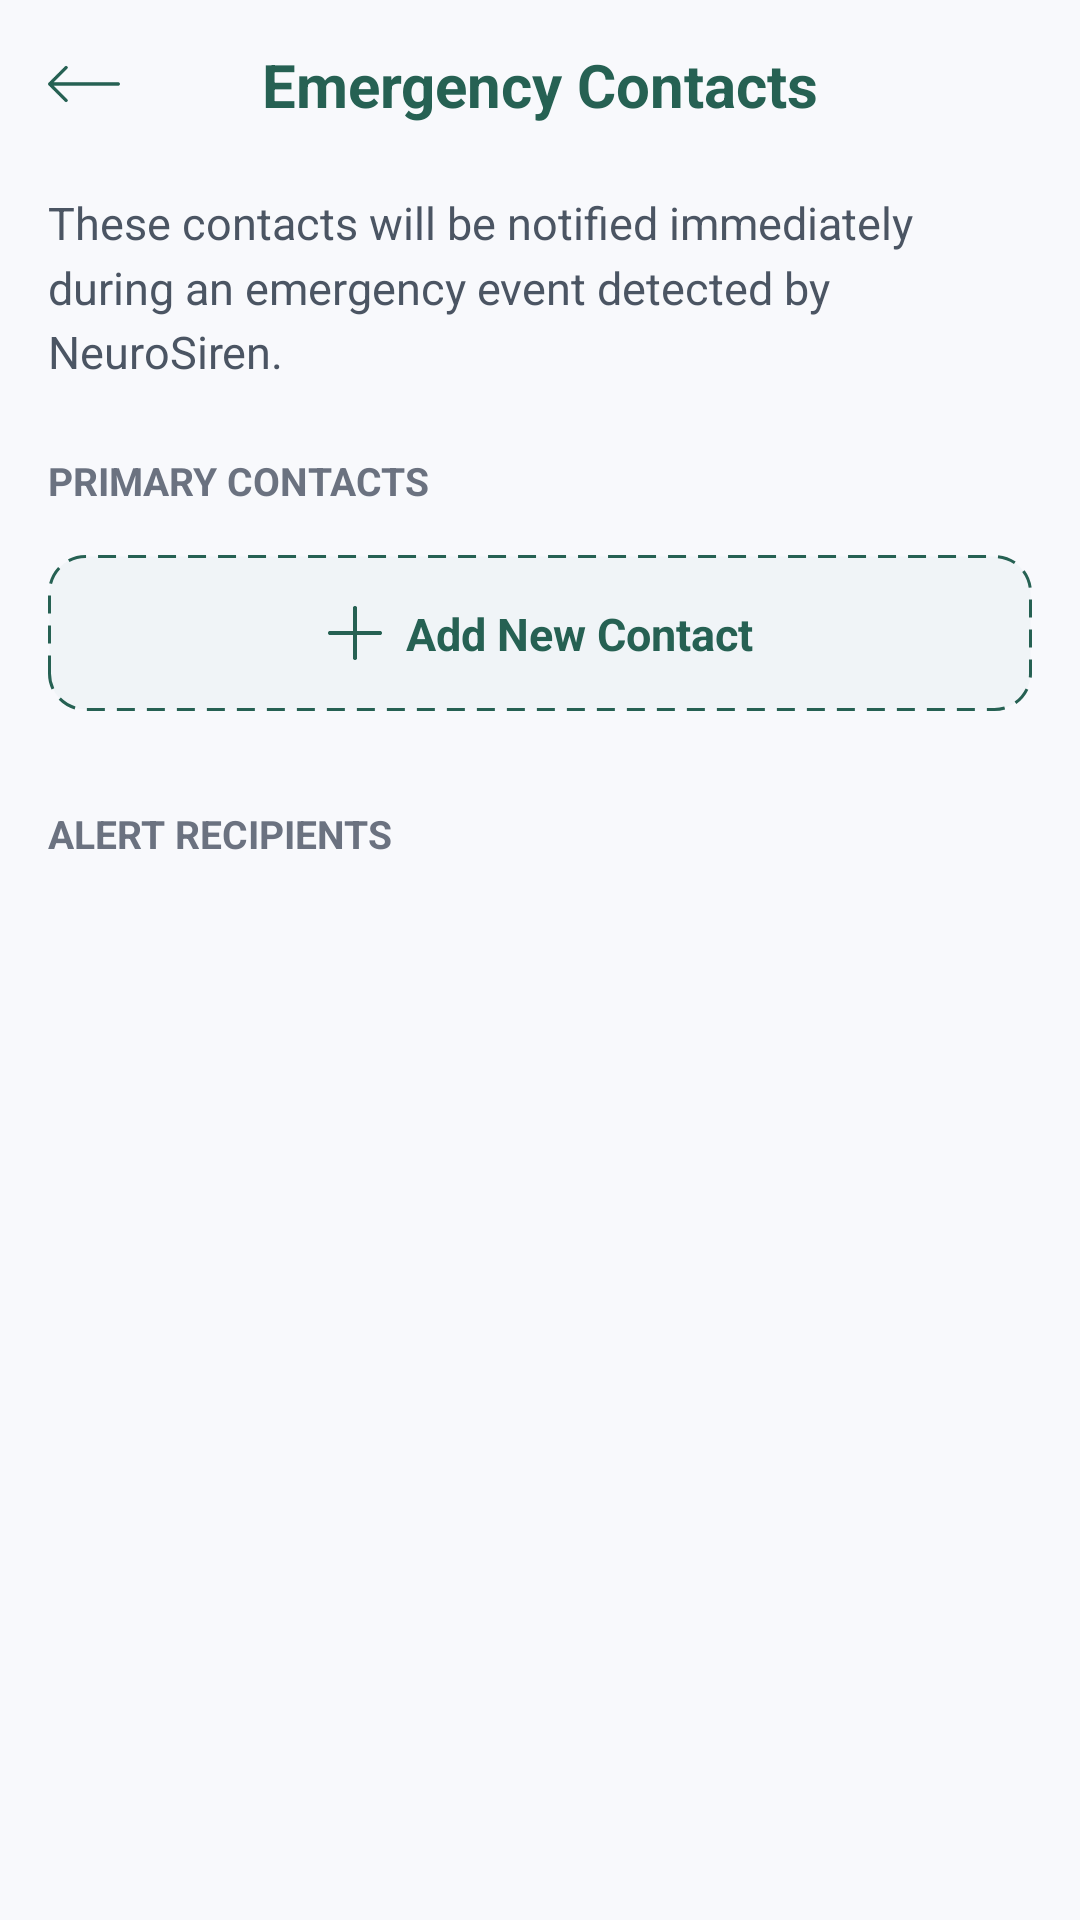

Screen size 1080×1920. Icon name, then its center in pixels as point (x, y):
left arrow: point (84, 84)
